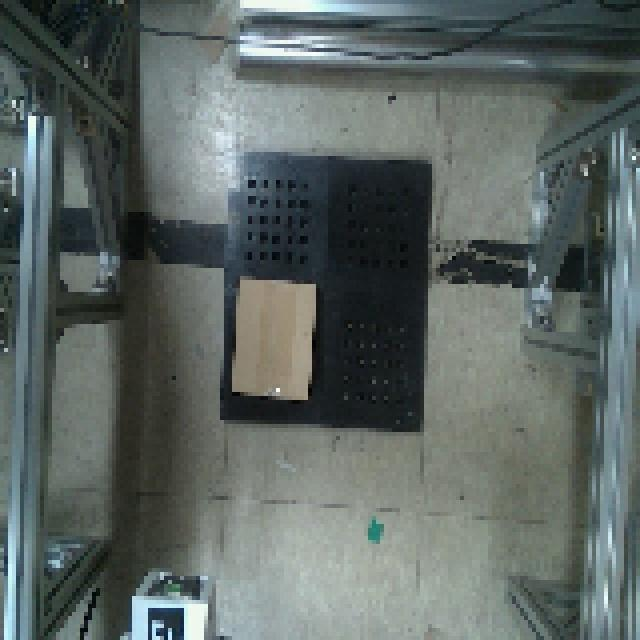box: (228, 273, 324, 404)
pallet: (217, 149, 439, 440)
